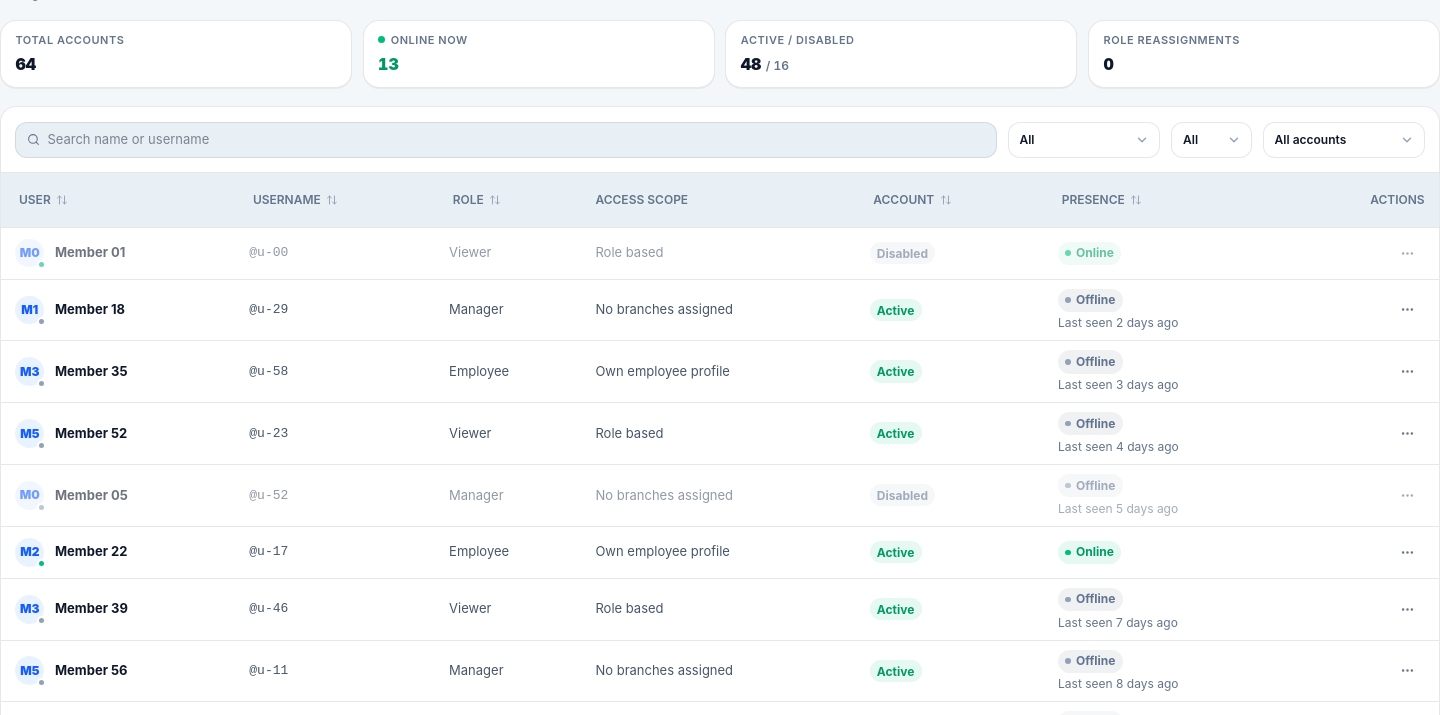
Test: Users sorting › sorts by User across every page, so page 1 holds the first names overall
This screenshot has width=1440, height=715.
Click the button "User": click(44, 200) [15, 184, 72, 216]
(page scrolled)
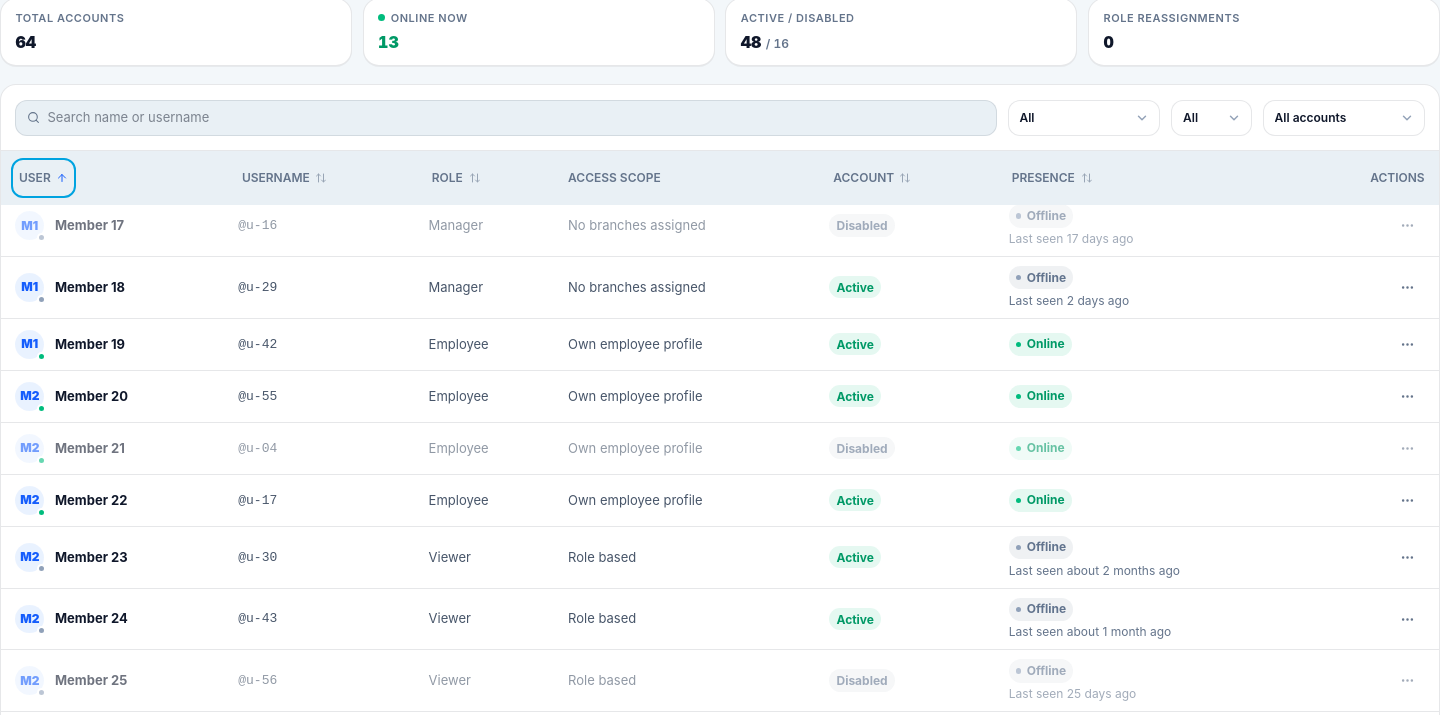
Result: the text with class "font-bold" reads "Member 25" at [55, 672, 127, 688]
